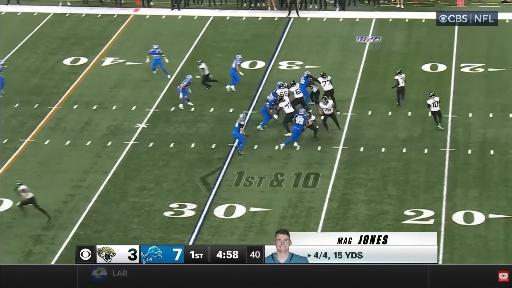Helmet: (195, 59, 203, 66), (428, 91, 436, 98), (290, 80, 297, 87), (267, 95, 274, 102), (153, 44, 159, 52), (299, 106, 305, 114), (396, 69, 402, 76), (239, 113, 245, 120), (321, 97, 328, 103), (279, 96, 285, 103), (235, 56, 243, 61), (320, 72, 326, 78), (278, 84, 284, 90), (276, 82, 285, 86), (15, 181, 22, 186), (0, 60, 5, 67), (186, 76, 193, 81), (307, 111, 311, 119), (305, 71, 311, 76)
Jersey: (279, 97, 295, 113), (18, 185, 33, 199), (319, 76, 333, 91), (294, 114, 307, 130), (320, 100, 334, 114), (289, 85, 303, 98), (427, 97, 439, 111), (233, 119, 245, 133), (265, 95, 276, 108), (199, 62, 209, 76), (395, 74, 405, 87), (149, 49, 162, 59), (275, 88, 289, 97), (178, 79, 190, 89), (300, 75, 309, 88), (232, 59, 241, 70), (308, 115, 315, 125), (310, 84, 318, 92), (0, 60, 4, 74), (274, 85, 279, 91)
Player: (15, 182, 51, 221), (280, 109, 307, 149), (276, 85, 296, 136), (146, 45, 170, 78), (258, 93, 278, 130), (320, 96, 340, 130), (196, 60, 218, 89), (226, 55, 243, 91), (427, 92, 443, 129), (300, 71, 318, 103), (232, 114, 246, 155), (289, 81, 308, 110), (319, 72, 335, 105), (178, 75, 193, 109), (392, 70, 405, 106), (306, 110, 319, 138), (274, 83, 289, 98), (275, 82, 289, 98), (309, 82, 319, 104), (0, 60, 4, 96), (275, 82, 283, 91)
